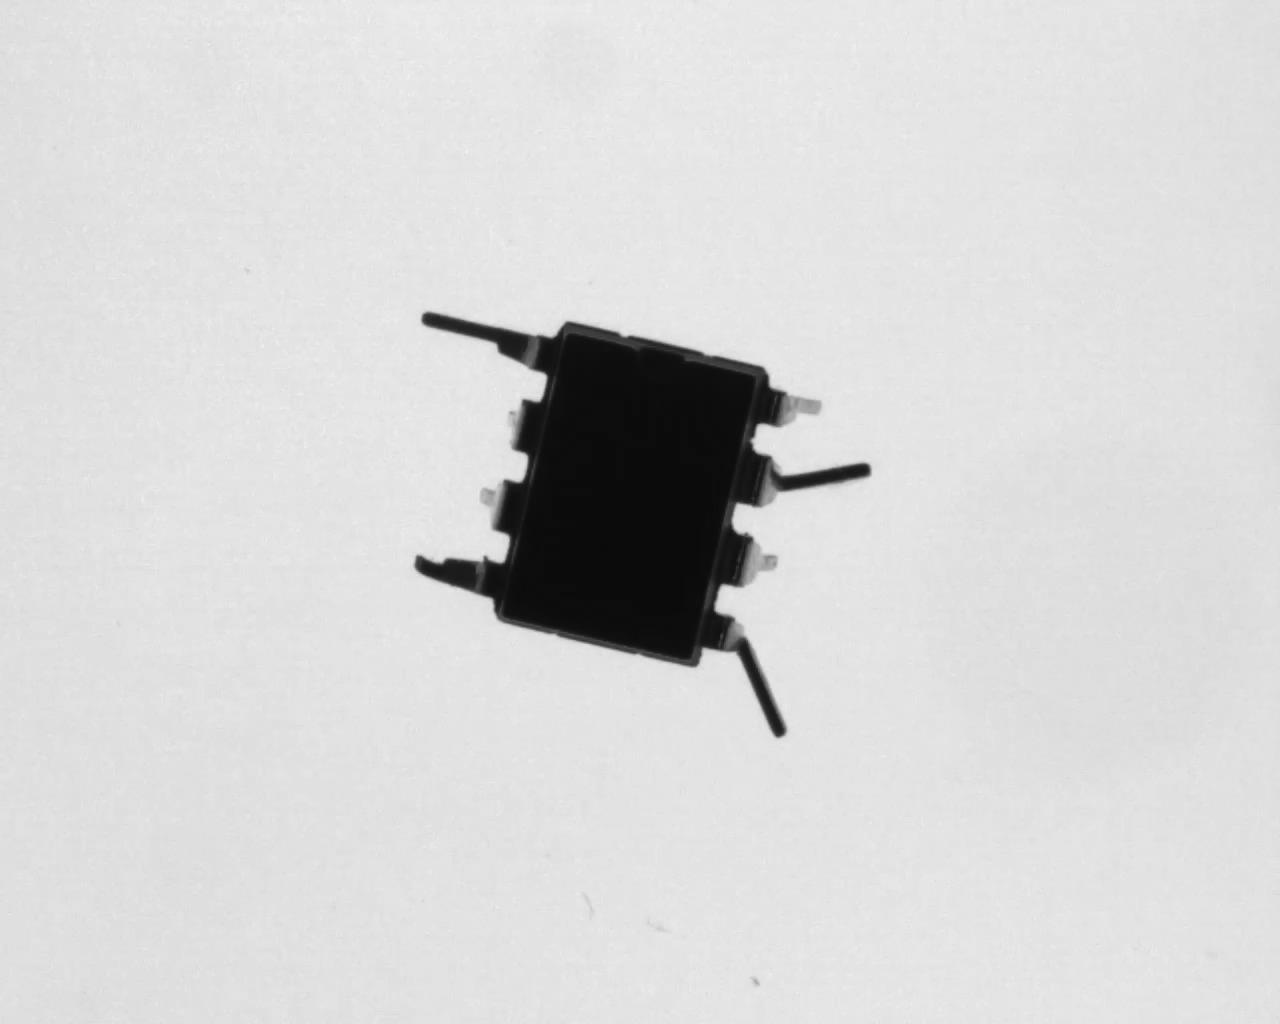Leg: (702, 603, 792, 743), (411, 300, 562, 381), (737, 440, 874, 511), (402, 544, 509, 607), (716, 522, 782, 591), (754, 374, 825, 435), (468, 468, 521, 534), (497, 389, 543, 462)
